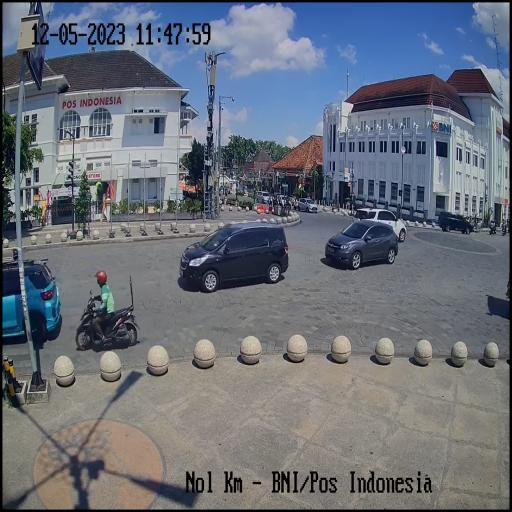mobil: (180, 219, 289, 295), (322, 220, 400, 272)
motor: (71, 286, 141, 360)
